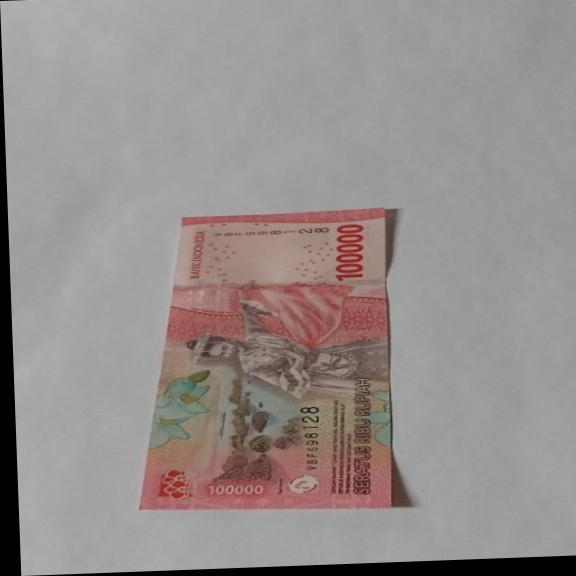Kertas: (126, 206, 403, 517), (331, 222, 367, 282)
